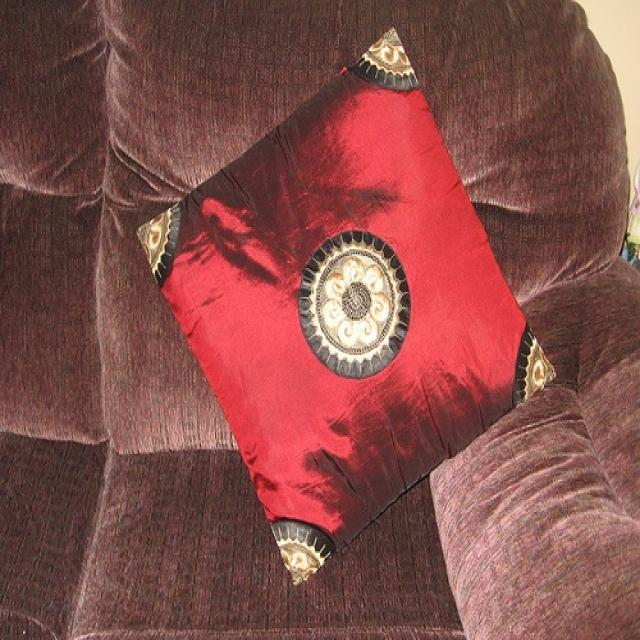sofa: (2, 5, 638, 635)
